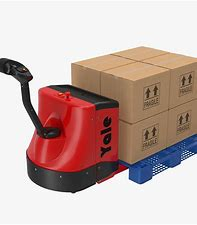Pallet Jack: (1, 56, 197, 193)
